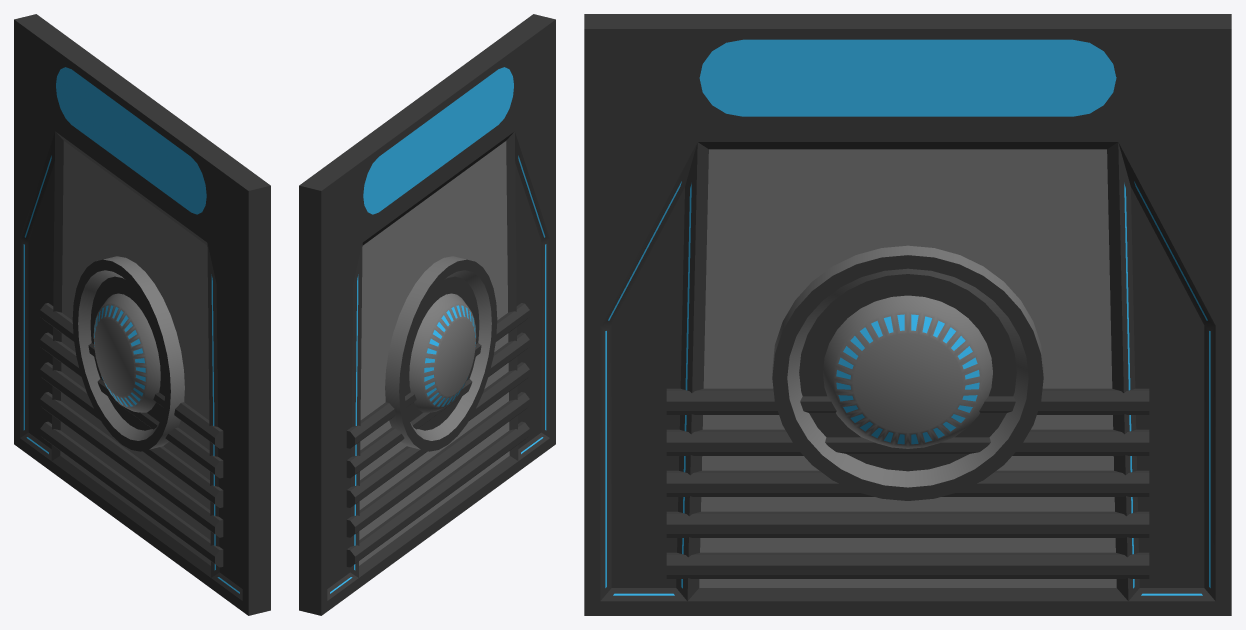
3 renders of one model, left to right at view 1: azimuth 30°, elevation 25°; view 2: azimuth 150°, elevation 25°; view 3: azimuth 270°, elevation 25°, orthographic. The views are drawn at different scales.
Visible parts, largest first — view 1: Door-col; view 2: Door-col; view 3: Door-col.
Part boxes in pixels (left/top/right/bottom): Door-col: left=14, top=14, right=270, bottom=615; Door-col: left=299, top=14, right=555, bottom=615; Door-col: left=584, top=14, right=1231, bottom=615.
Size of the model in its own units: 0.5573 by 4 by 4.
